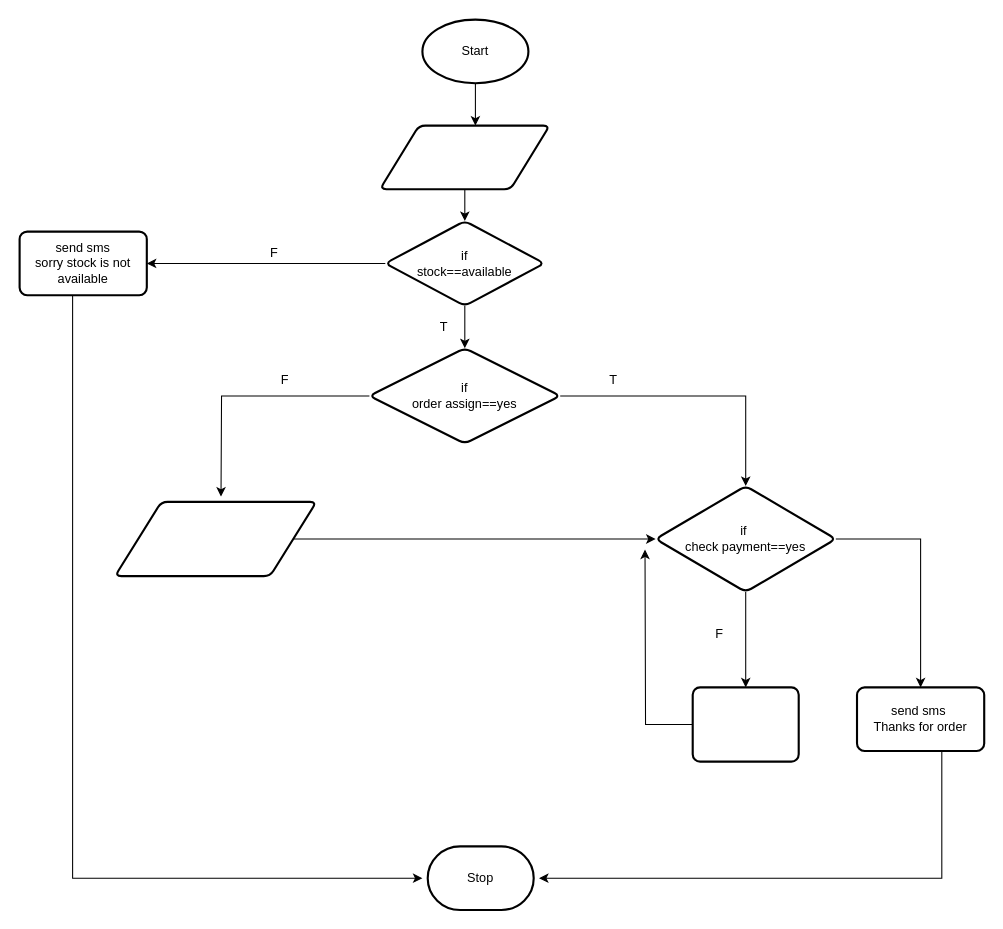
Some shapes in this 1003 by 929 pixel diagram are drawn without their labels. Here are the shapes that lost their labels. From the top down, the centre of each, then its label:
At point (464, 157): "Input order=1 stock=n-1".
At point (215, 538): "data=order + contact send payment mode stock=n-1".
At point (745, 724): "send payment mode".
